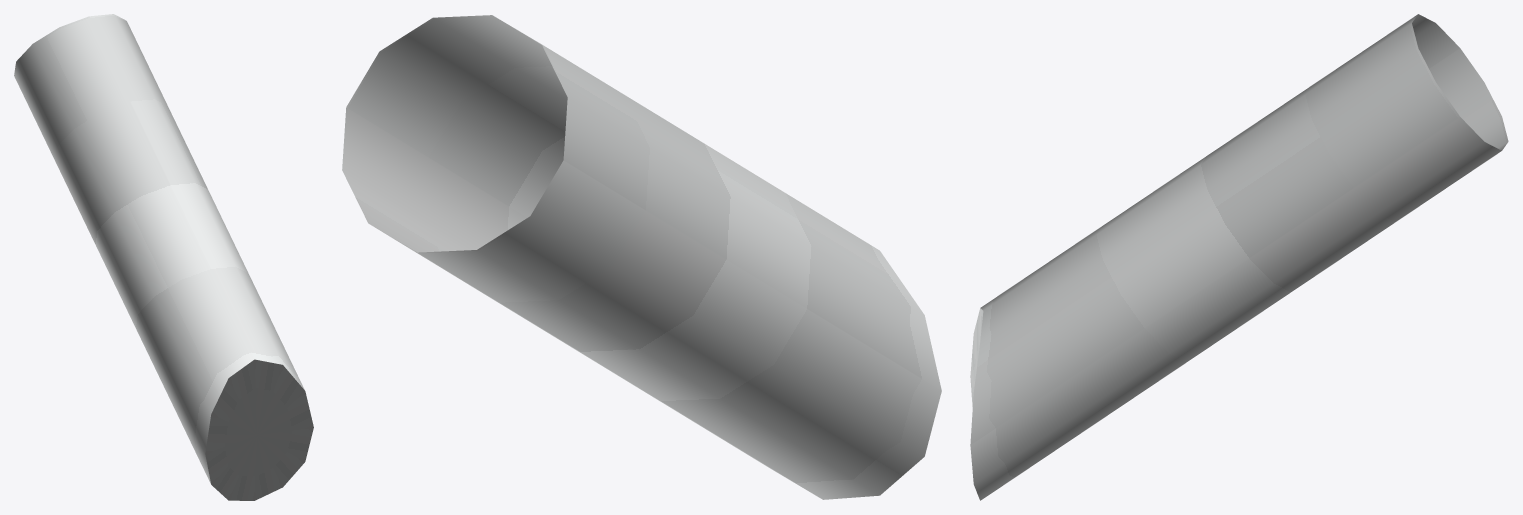
Rendered from luminairearm_truss10ftstraight_c1_thin.obj.
3 renders of one model, left to right at view 1: azimuth 30°, elevation 25°; view 2: azimuth 150°, elevation 25°; view 3: azimuth 270°, elevation 25°, orthographic. The views are drawn at different scales.
Visible parts, largest first — view 1: luminairearm_truss10ftstraight_c1_thin; view 2: luminairearm_truss10ftstraight_c1_thin; view 3: luminairearm_truss10ftstraight_c1_thin.
Part boxes in pixels (x1,y1,x2,y2): luminairearm_truss10ftstraight_c1_thin: (14,14,313,500); luminairearm_truss10ftstraight_c1_thin: (342,15,941,499); luminairearm_truss10ftstraight_c1_thin: (970,14,1508,500).
Size of the model in its own units: 0.1562 by 0.4994 by 0.5175.
